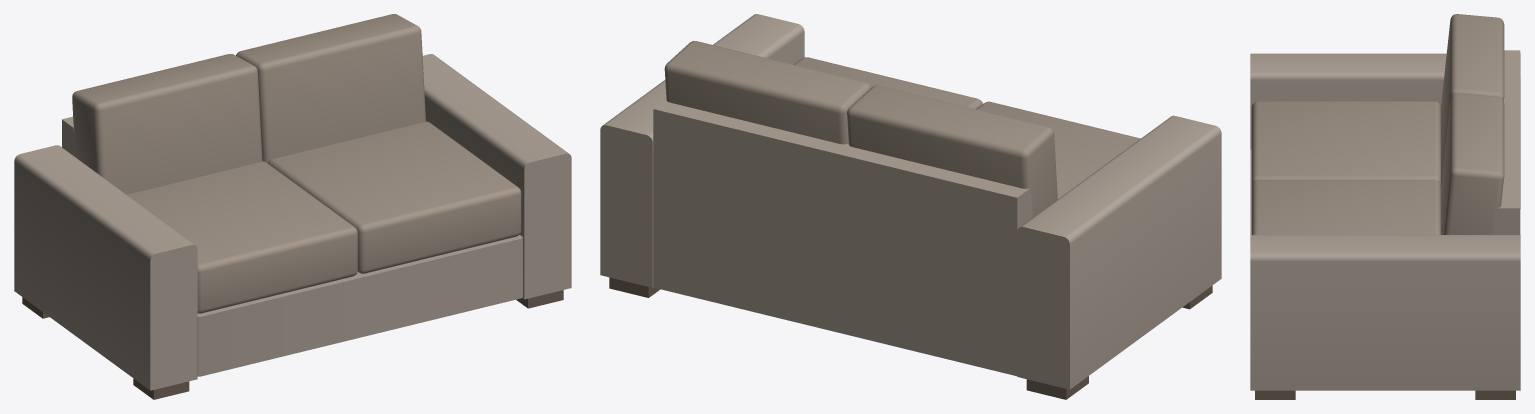
Rendered from Sofa1_C2.fbx.
The picture shows the model from 3 angles, left to right: view 1: azimuth 30°, elevation 25°; view 2: azimuth 150°, elevation 25°; view 3: azimuth 270°, elevation 25°; orthographic projection. The views are drawn at different scales.
Visible parts, largest first — view 1: Sofa1_C2; view 2: Sofa1_C2; view 3: Sofa1_C2.
Part boxes in pixels (box(x1,y1,x2,y2)): Sofa1_C2: box(14, 14, 571, 399); Sofa1_C2: box(600, 14, 1221, 399); Sofa1_C2: box(1250, 14, 1520, 399).
Size of the model in its own units: 179 by 85.61 by 100.
